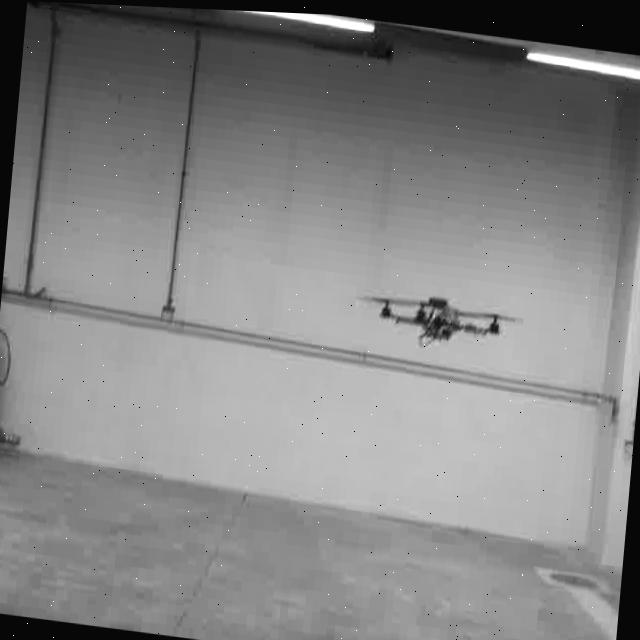drone: (371, 275, 513, 353)
